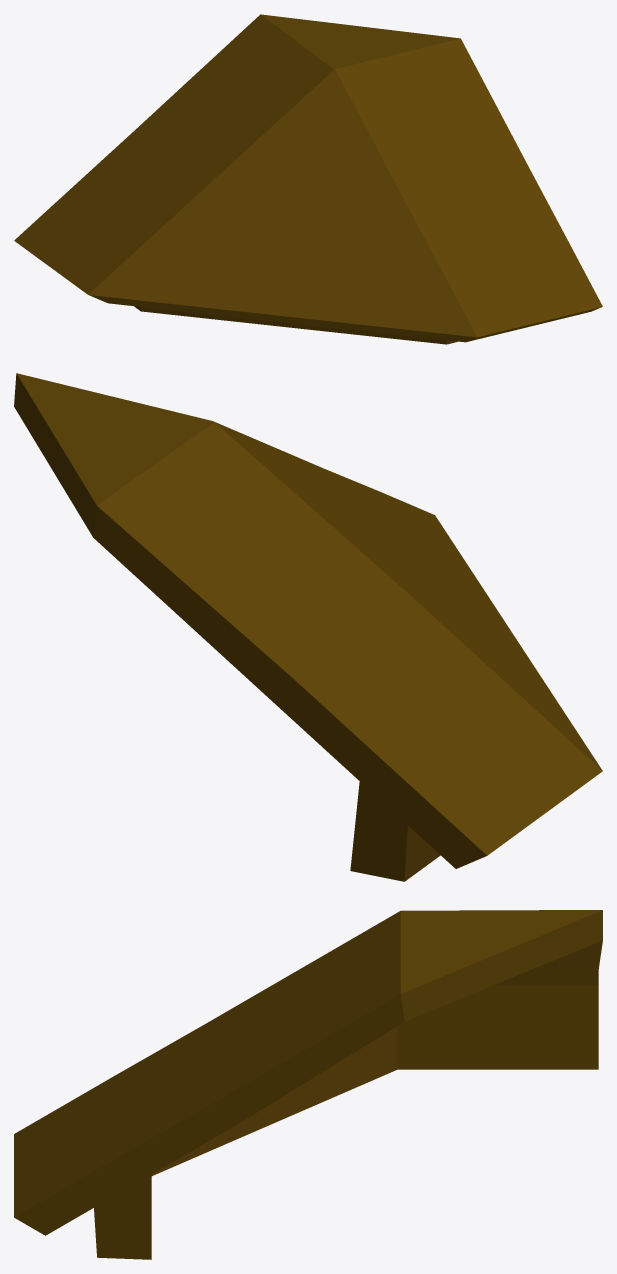
The model's file is Corner Wall Roof.fbx.
3 renders of one model, top to bottom at view 1: azimuth 30°, elevation 25°; view 2: azimuth 150°, elevation 25°; view 3: azimuth 270°, elevation 25°, orthographic. The views are drawn at different scales.
Parts seen in each view (by area): view 1: Cube.017; view 2: Cube.017; view 3: Cube.017.
Boxes of the visible parts, bbox=[...] form: Cube.017: bbox=[14, 14, 602, 344]; Cube.017: bbox=[14, 373, 602, 881]; Cube.017: bbox=[14, 910, 602, 1259].
Size of the model in its own units: 304 by 152 by 304.
